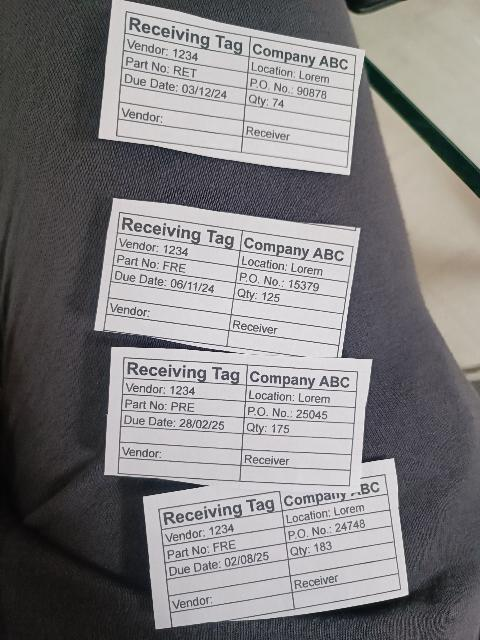PO no: (235, 264, 350, 299), (284, 509, 394, 545), (247, 72, 354, 107), (243, 401, 355, 424)
part no: (122, 51, 250, 88), (112, 248, 239, 284), (164, 527, 286, 563), (120, 394, 245, 418)
qty: (286, 524, 395, 561), (233, 283, 347, 316), (245, 88, 352, 122), (243, 416, 354, 439)
tags: (97, 0, 364, 178), (140, 458, 411, 629), (95, 198, 361, 364), (104, 348, 371, 491)
